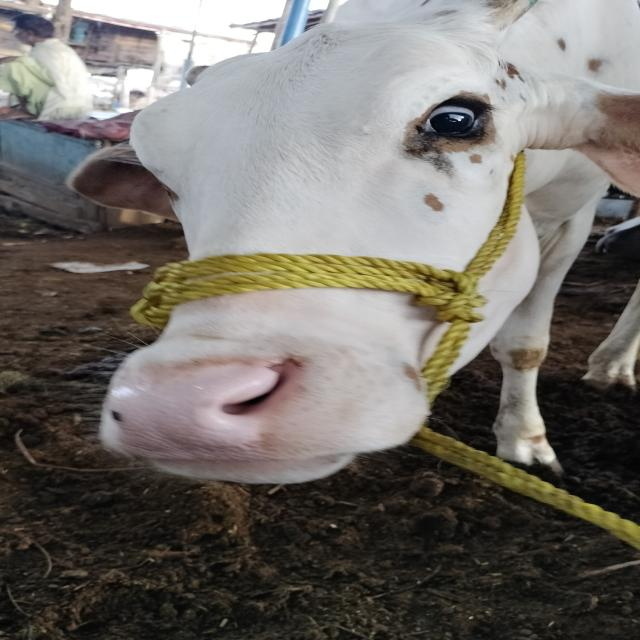muzzles: (102, 346, 315, 468)
